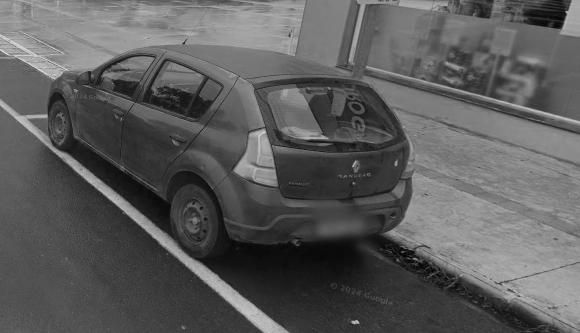car: (43, 8, 417, 269)
